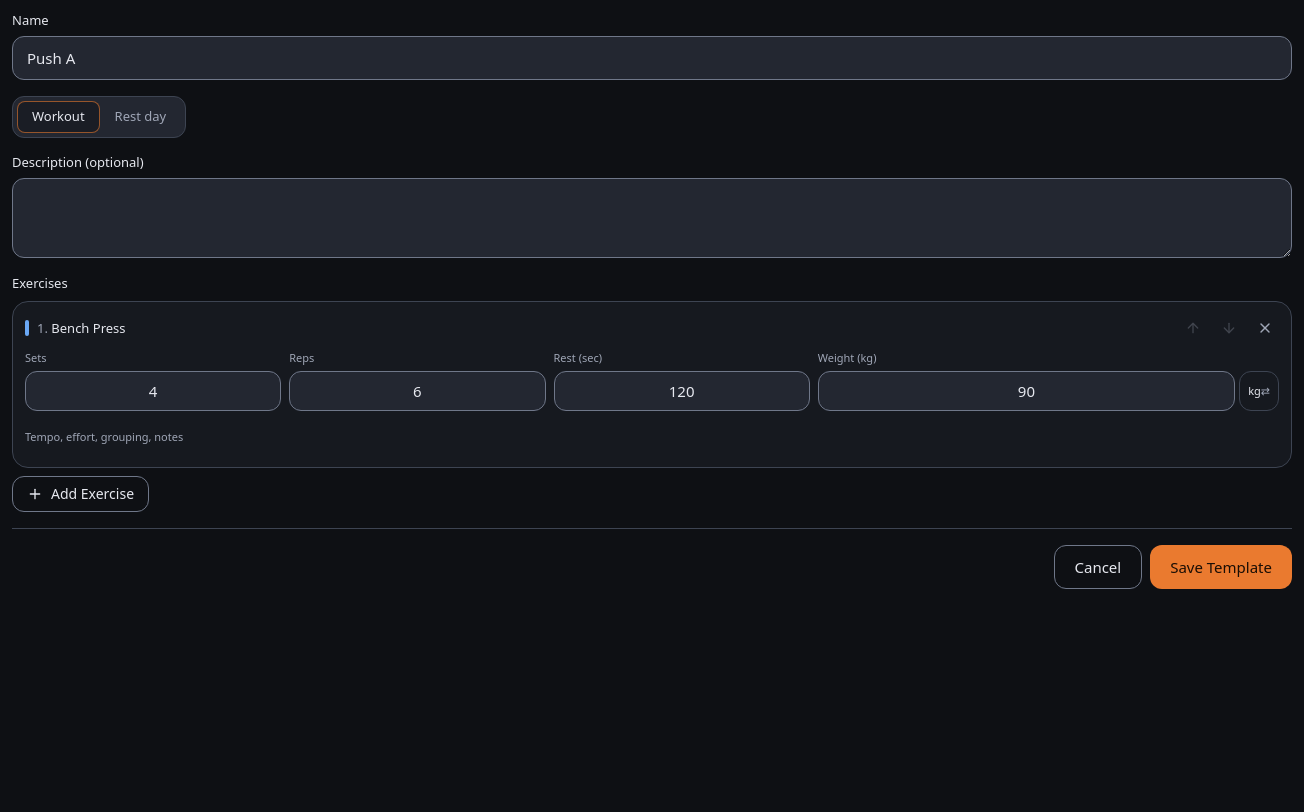
template editor › won't save a rest day that still has exercises
Click the radio button labelled "Rest day" at (140, 116), box [115,107,166,125]
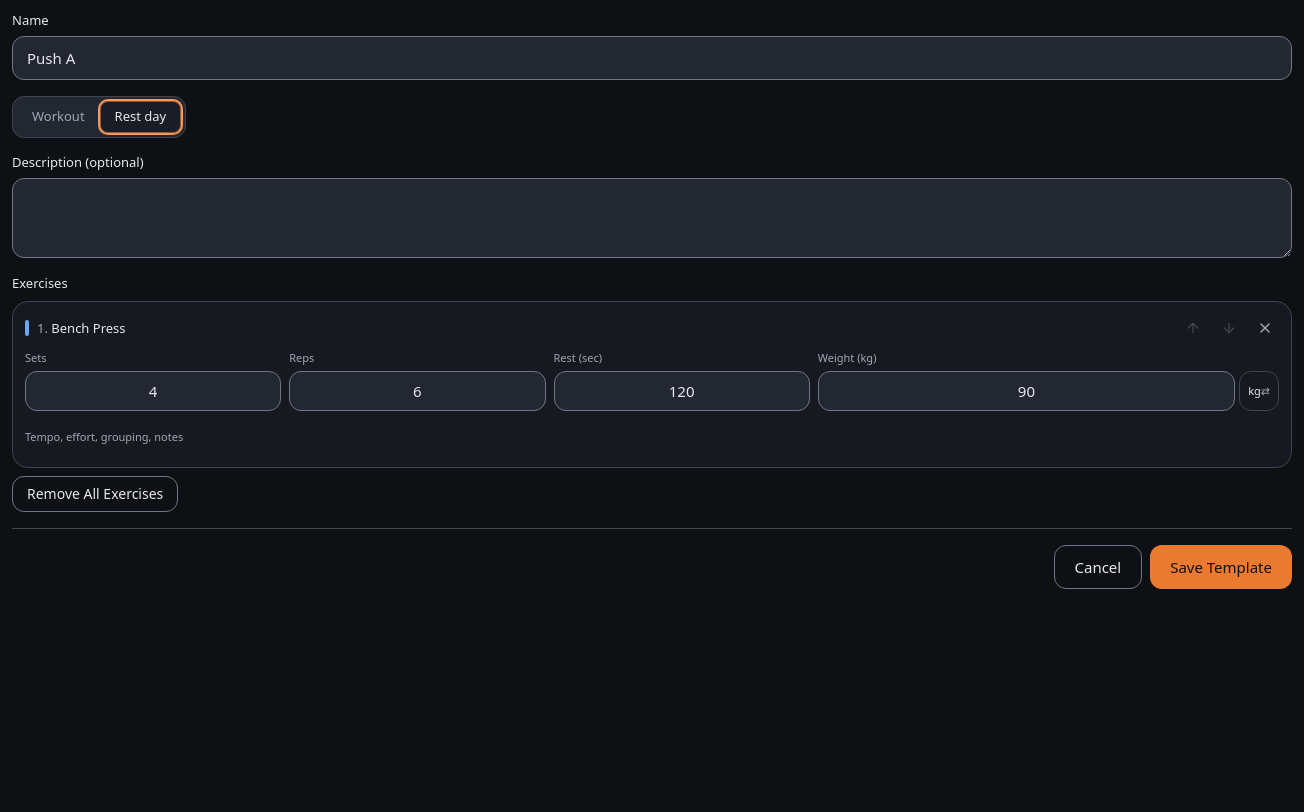
Click the button "Save Template" at (1221, 567), box [1150,545,1292,589]
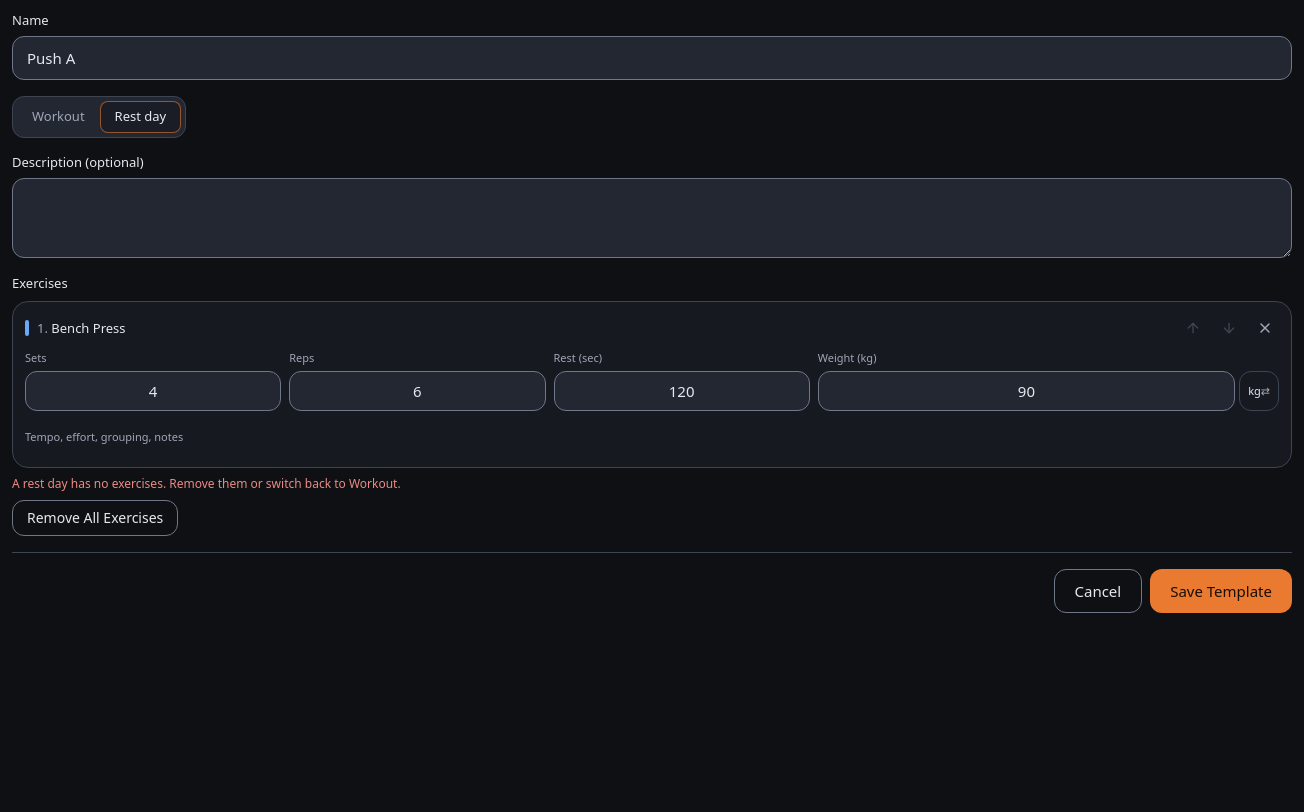
Expected: the text "A rest day has no exercises. Remove them or switch back to Workout." is shown, [12,475,401,492]
